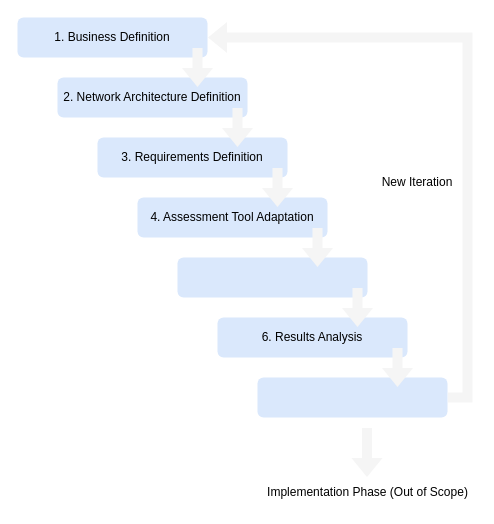
This 494x524 diagram has some shape labels left out. Here are the shapes that lost their labels. From the top down, the box of each, then its label:
(177, 257, 367, 297): 5. SIEMs Assessment
(257, 377, 447, 417): 7. SIEM Selection
